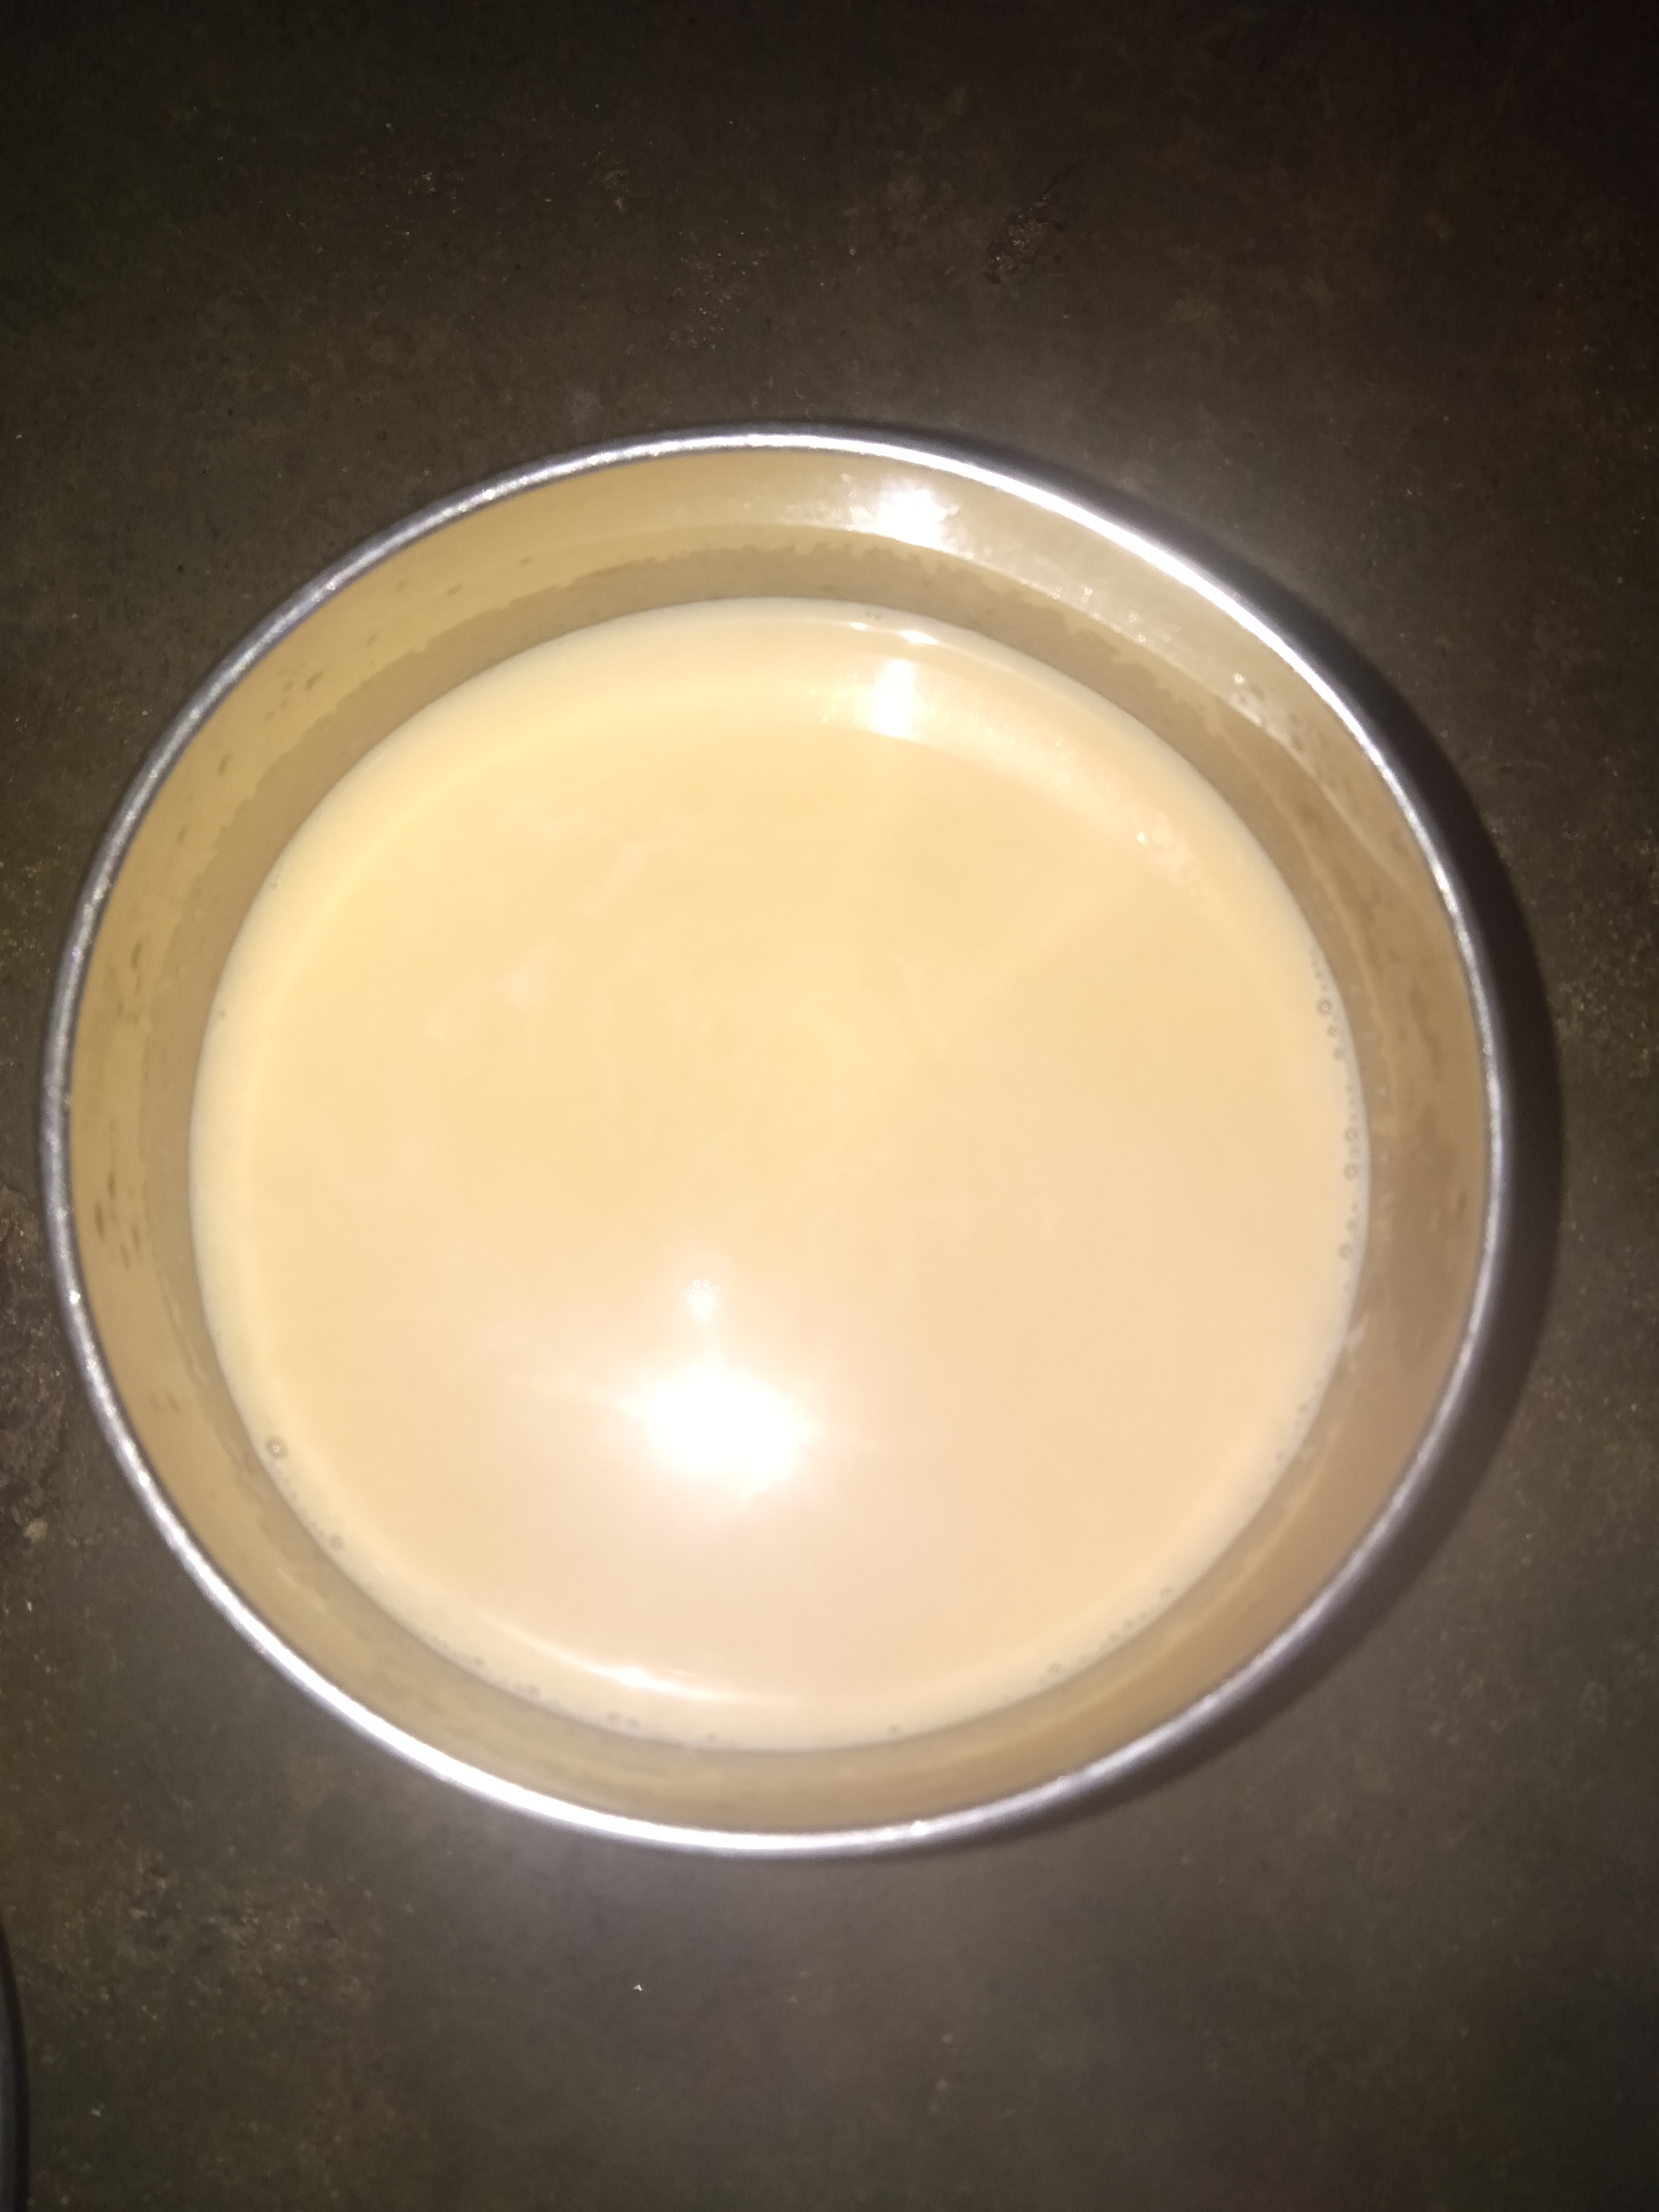food: (166, 578, 1396, 1771)
